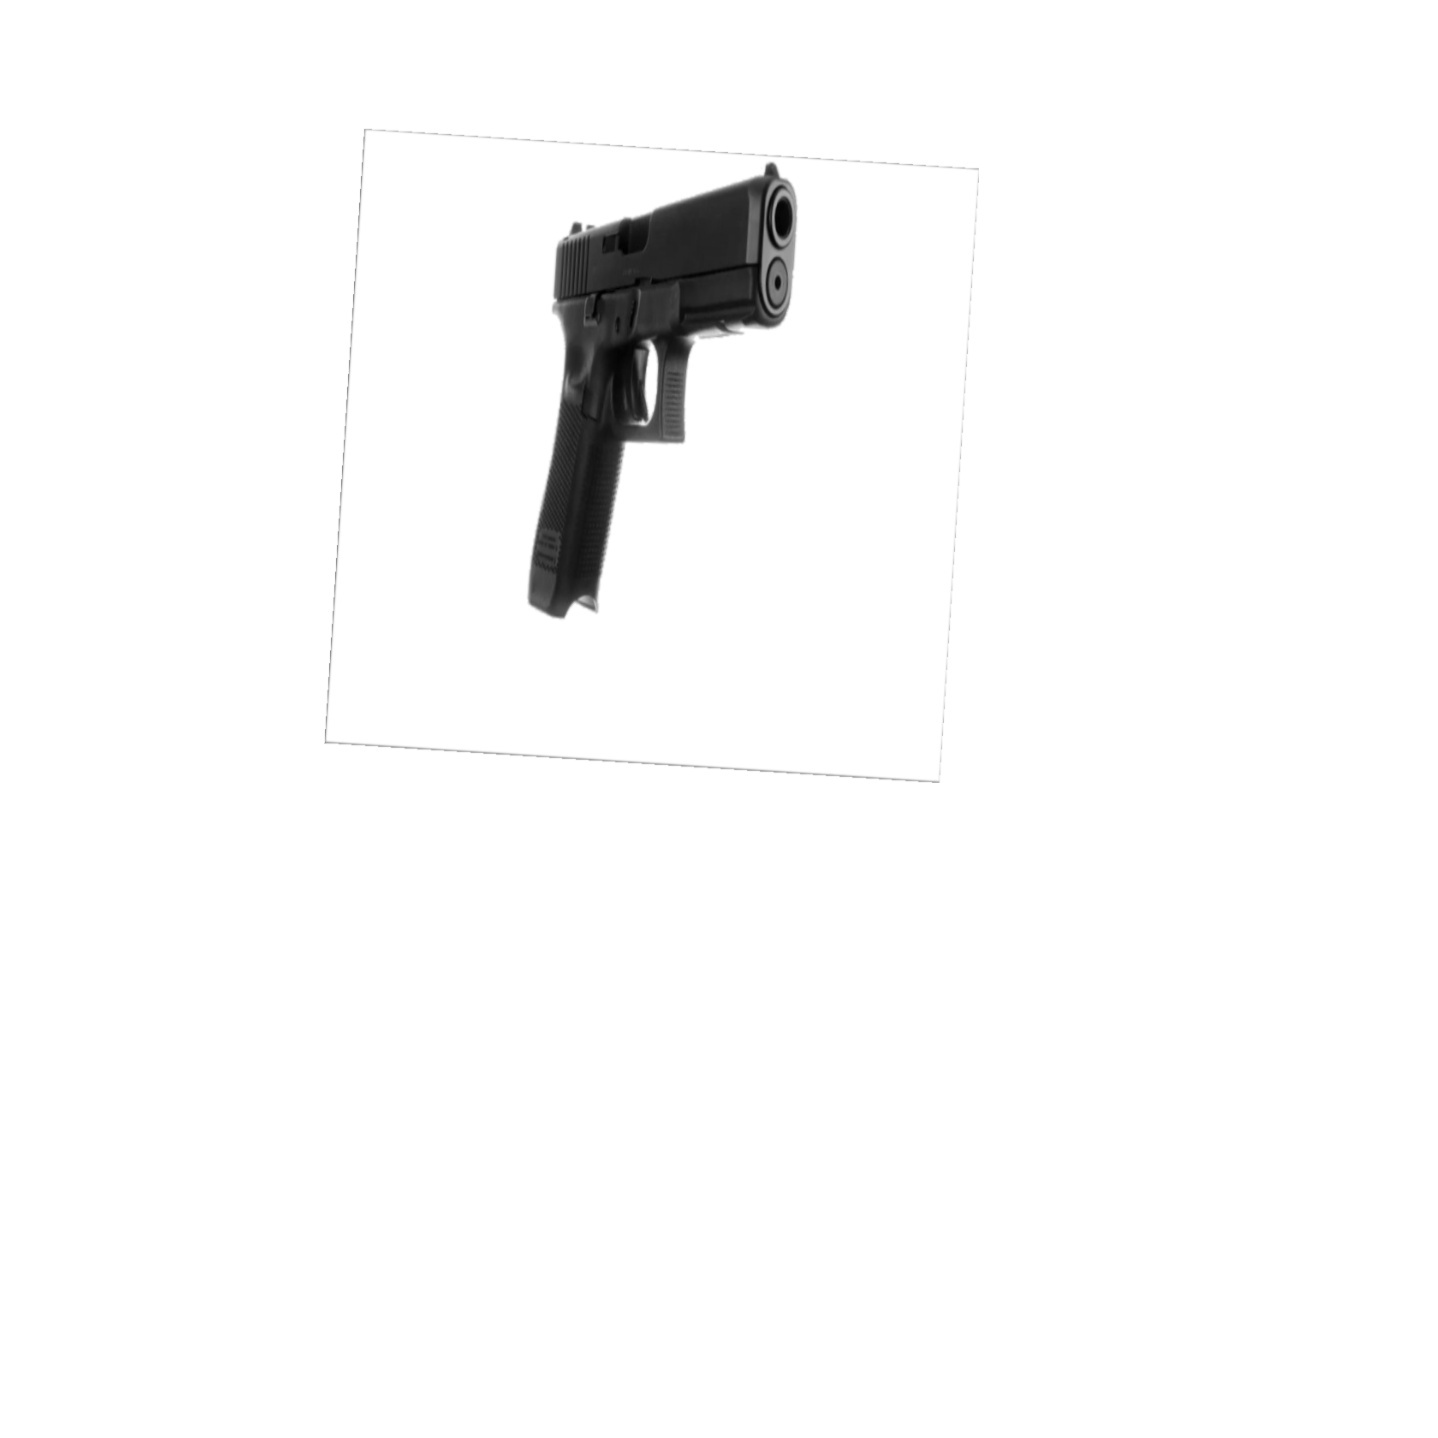gun: (510, 162, 815, 627)
